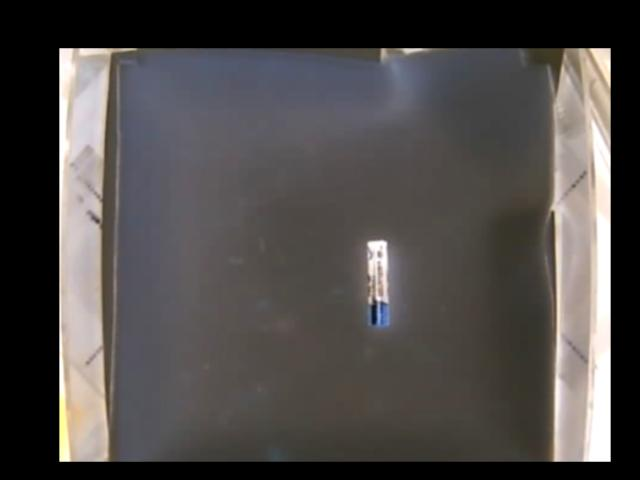Battery: (366, 240, 390, 329)
